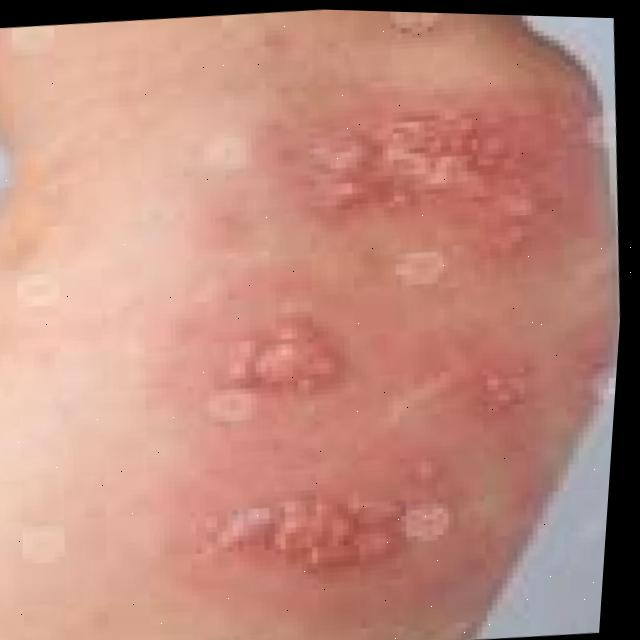Shingles: (178, 105, 563, 581)
